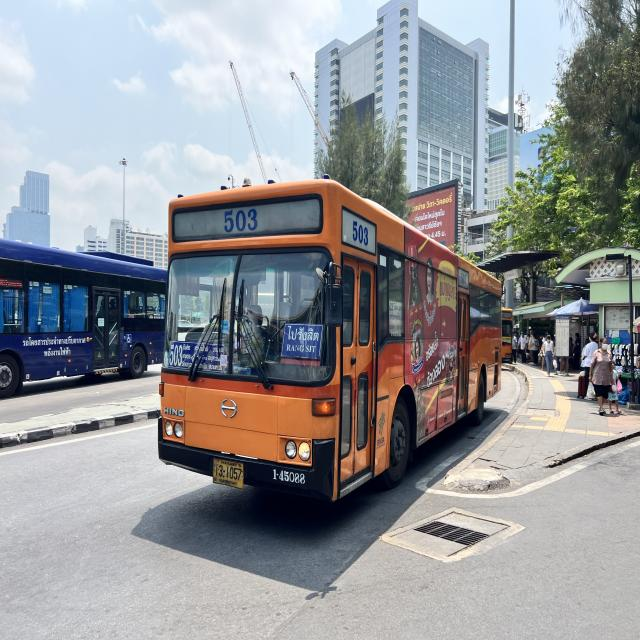BMTA-bus: (157, 180, 504, 504)
Bus-Line-Number: (218, 203, 264, 237)
Destination-Sign-Normal: (284, 319, 326, 361)
TSB-Bus: (0, 240, 168, 399)
